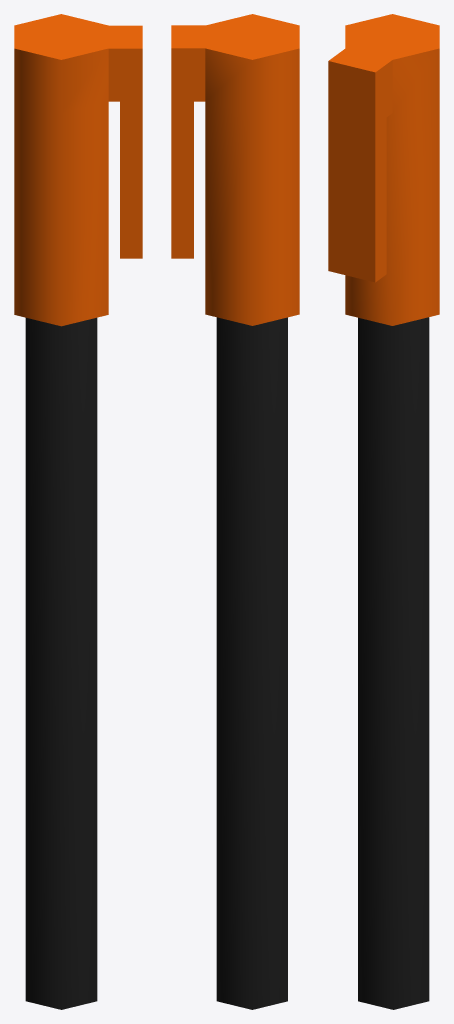
The model's file is boli_tronja.FBX.
The picture shows the model from 3 angles, left to right: view 1: azimuth 30°, elevation 25°; view 2: azimuth 210°, elevation 25°; view 3: azimuth 270°, elevation 25°; orthographic projection.
Parts seen in each view (by area): view 1: Cylinder005; view 2: Cylinder005; view 3: Cylinder005.
Part boxes in pixels (box(x1,y1,x2,y2)): Cylinder005: box(14, 14, 142, 1009); Cylinder005: box(171, 14, 299, 1009); Cylinder005: box(328, 14, 439, 1009).
Bounding box in the file's own units: 0.5008 × 3.82 × 0.4028.
